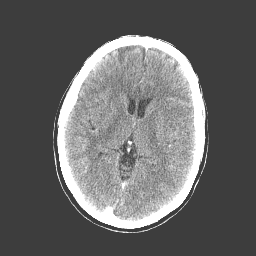ischemic: (162, 99, 193, 129)
